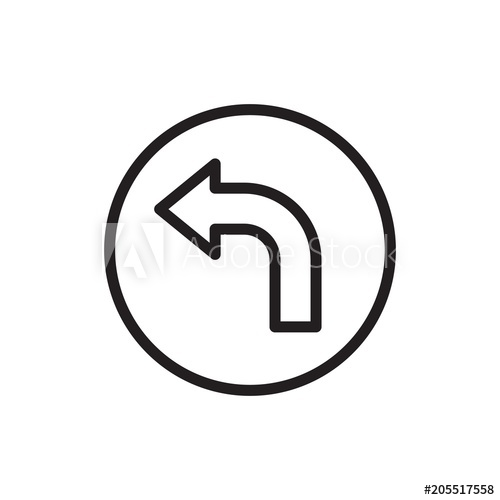left: (105, 101, 409, 395)
